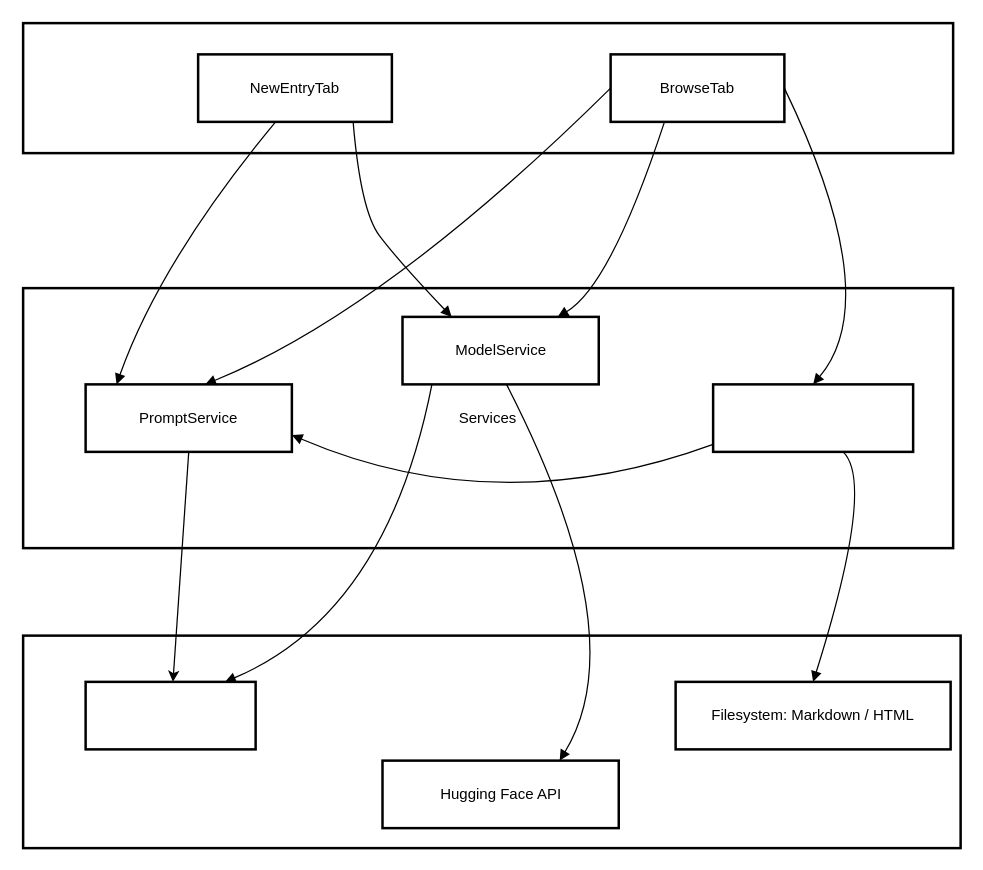
Some shapes in this 983 by 870 pixel diagram are drawn without their labels. The shapes that lost their labels are listed below. From the top down, each one's box as (x1, y1, x2, y2) in pixels, then its label:
(21, 21, 954, 154): UI
(711, 382, 914, 452): ExportService
(84, 680, 256, 750): SQLite DB
(21, 634, 961, 849): Infrastructure
